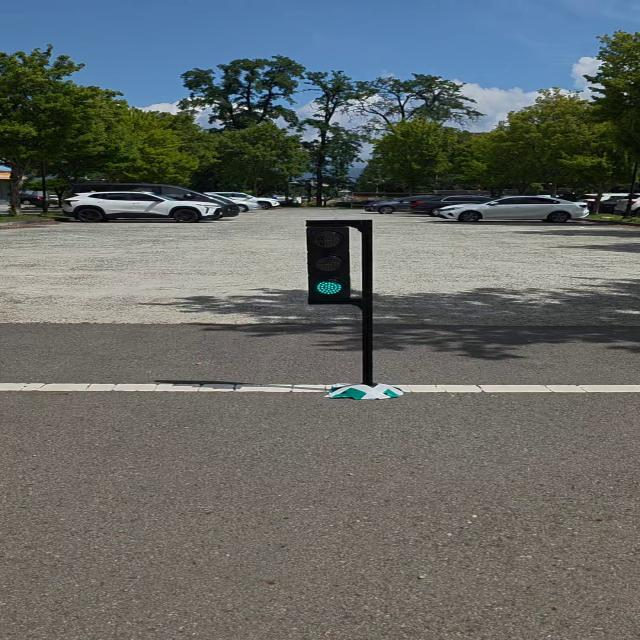green: (305, 220, 351, 306)
